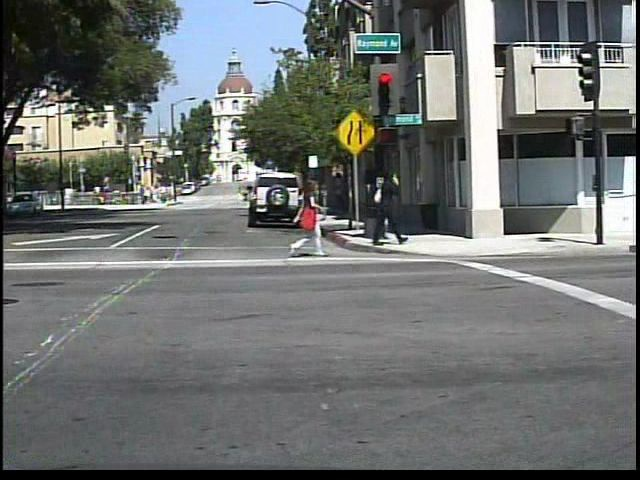person: (366, 163, 410, 249), (291, 172, 330, 258)
